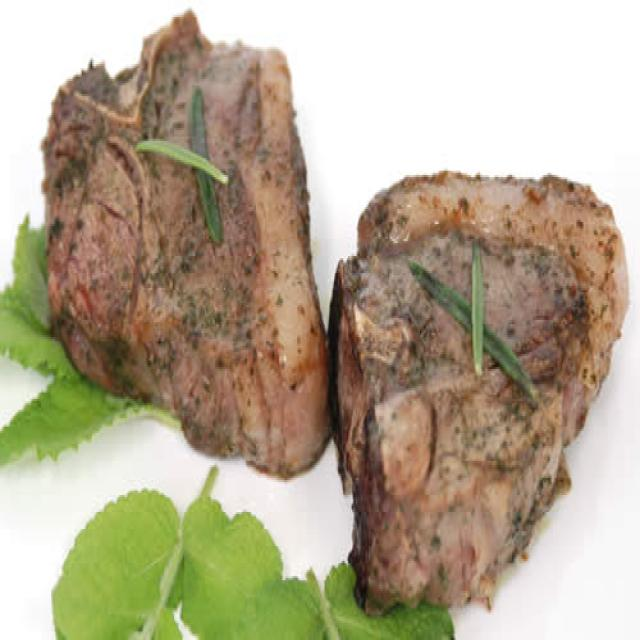牛肉菜式: (38, 0, 639, 597)
